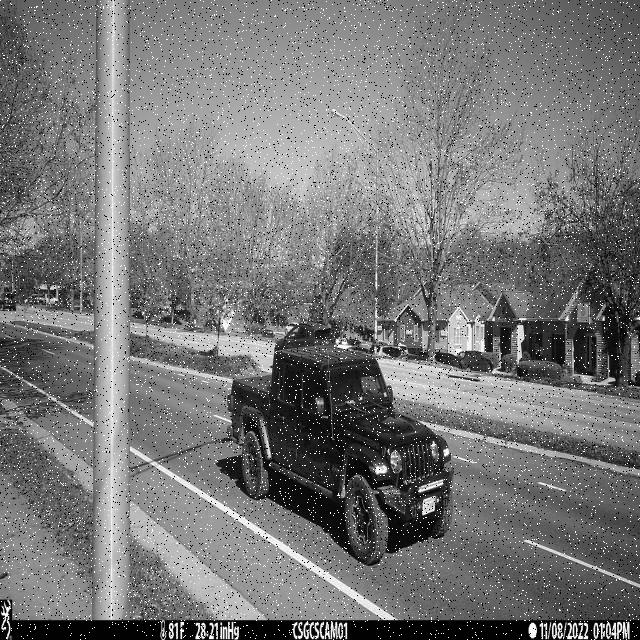Pickup: (224, 344, 457, 567)
